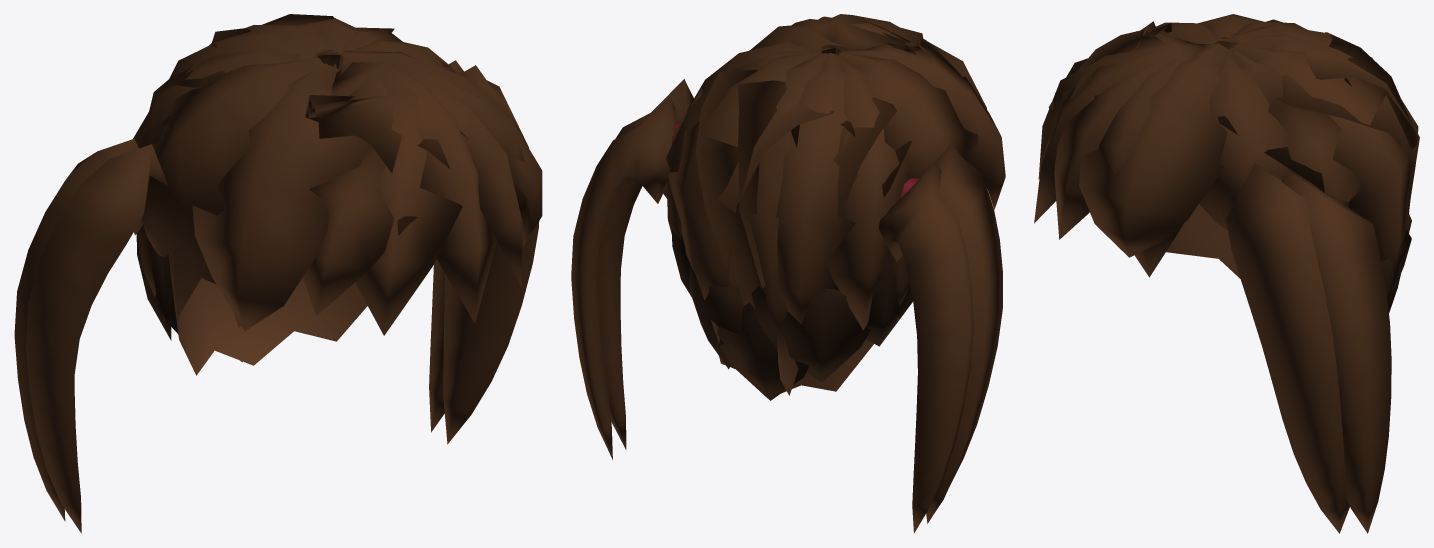
File: hair_f_marias_tight_f.glb
The picture shows the model from 3 angles, left to right: view 1: azimuth 30°, elevation 25°; view 2: azimuth 150°, elevation 25°; view 3: azimuth 270°, elevation 25°; orthographic projection. The views are drawn at different scales.
Visible parts, largest first — view 1: HairTop, HairTwin, HairCap, HairUnder; view 2: HairTop, HairTwin, HairUnder, HairCap; view 3: HairTop, HairTwin, HairCap, HairUnder.
Part boxes in pixels (bbox=[...]): HairTop: bbox=[133, 14, 542, 335]; HairTwin: bbox=[14, 60, 539, 533]; HairCap: bbox=[168, 64, 367, 375]; HairUnder: bbox=[136, 232, 242, 362]; HairTop: bbox=[666, 14, 1005, 395]; HairTwin: bbox=[571, 79, 1002, 533]; HairUnder: bbox=[672, 229, 913, 400]; HairCap: bbox=[719, 339, 873, 398]; HairTop: bbox=[1034, 14, 1419, 299]; HairTwin: bbox=[1226, 163, 1391, 533]; HairCap: bbox=[1166, 204, 1240, 278]; HairUnder: bbox=[1381, 214, 1411, 312].
Bounding box in the file's own units: 0.3111 × 0.2974 × 0.2465.
